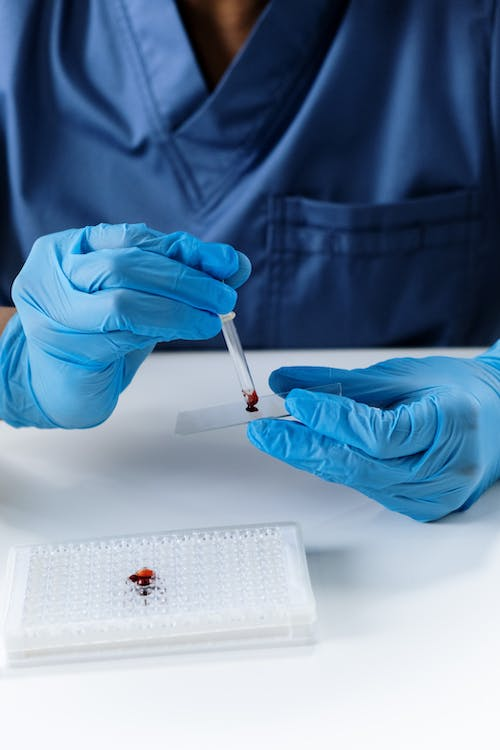blood: (122, 563, 163, 599), (238, 384, 261, 415)
